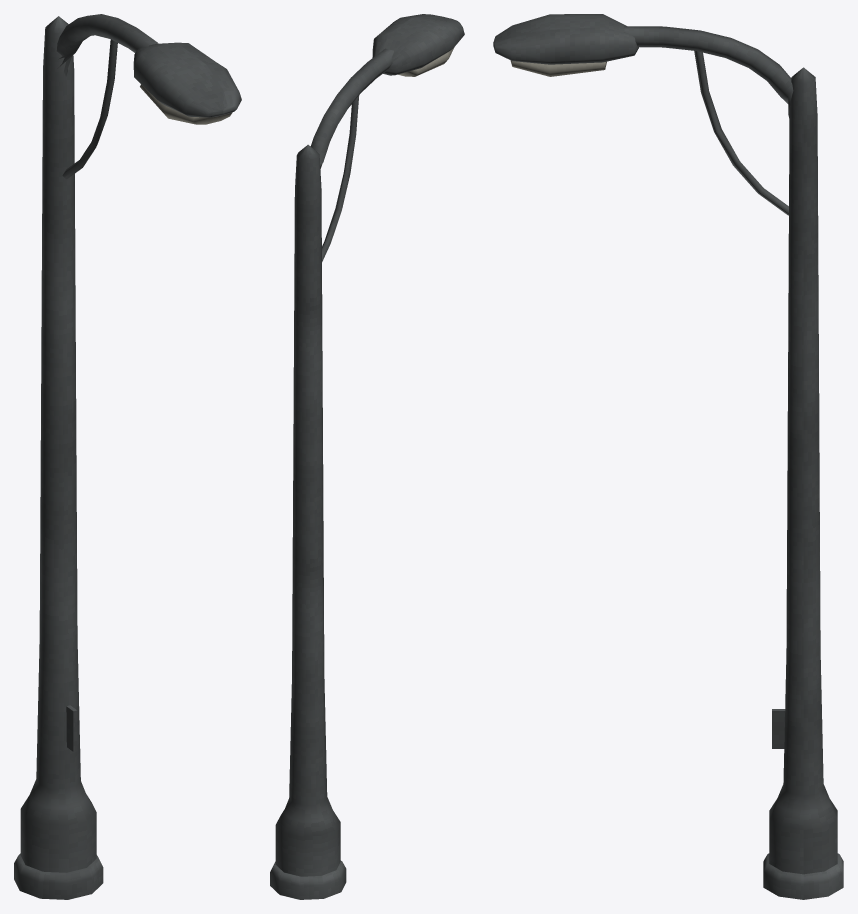
The model's file is town_lamp_dead.glb.
The picture shows the model from 3 angles, left to right: view 1: azimuth 30°, elevation 25°; view 2: azimuth 150°, elevation 25°; view 3: azimuth 270°, elevation 25°; orthographic projection. The views are drawn at different scales.
Parts seen in each view (by area): view 1: pole-col, detail; view 2: pole-col, detail; view 3: pole-col, detail.
Boxes of the visible parts, bbox=[...] form: pole-col: bbox=[20, 16, 96, 872]; detail: bbox=[14, 14, 241, 899]; pole-col: bbox=[275, 144, 340, 876]; detail: bbox=[270, 14, 464, 899]; pole-col: bbox=[769, 67, 837, 874]; detail: bbox=[493, 14, 843, 899].
Size of the model in its own units: 0.4 by 4.5 by 1.66.
Materials: 3 (3 with a texture image).
